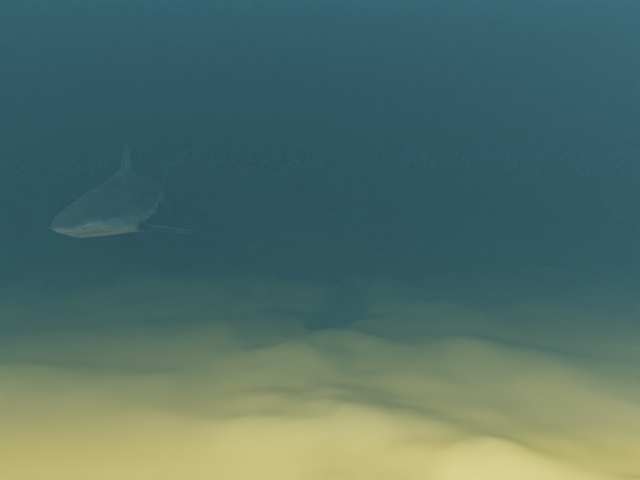Carribean Shark.001: (44, 141, 208, 237)
